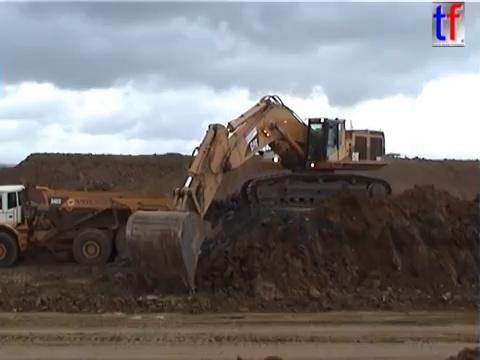excavator: (123, 92, 395, 298)
truck: (1, 181, 195, 270), (333, 151, 403, 180)
